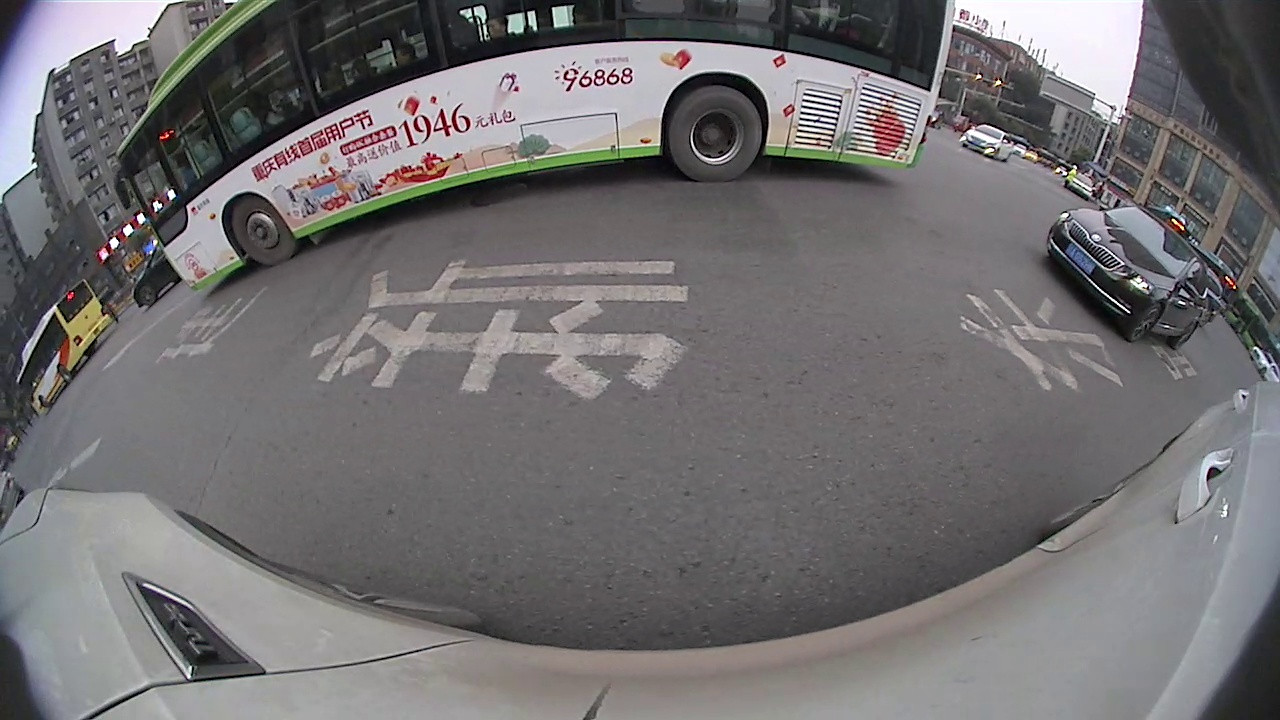car: (158, 58, 542, 297), (1165, 384, 1255, 501), (1019, 211, 1117, 297), (0, 304, 75, 401), (63, 229, 138, 314)
front: (168, 251, 209, 297), (1067, 258, 1087, 282)
rear: (321, 196, 398, 277)
